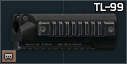MP5 TL-99 aluminum handguard: (0, 0, 127, 64)
